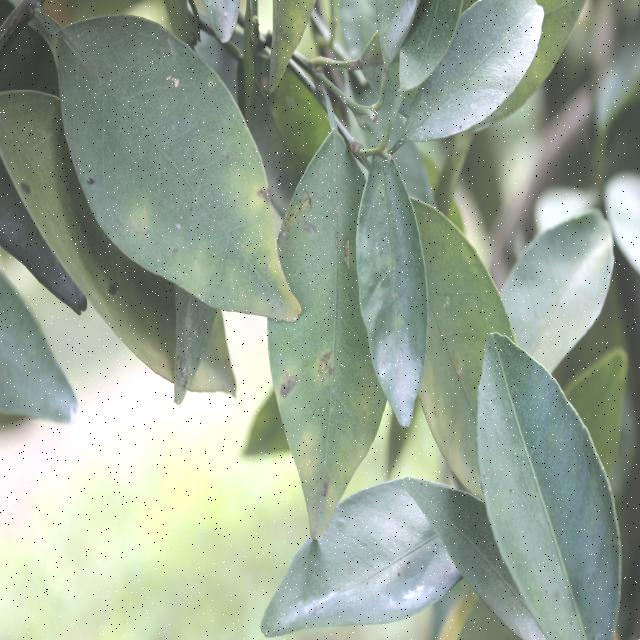canker: (270, 183, 360, 499)
